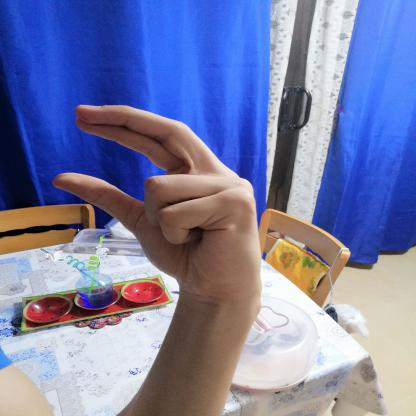DHELL: (38, 95, 272, 302)
